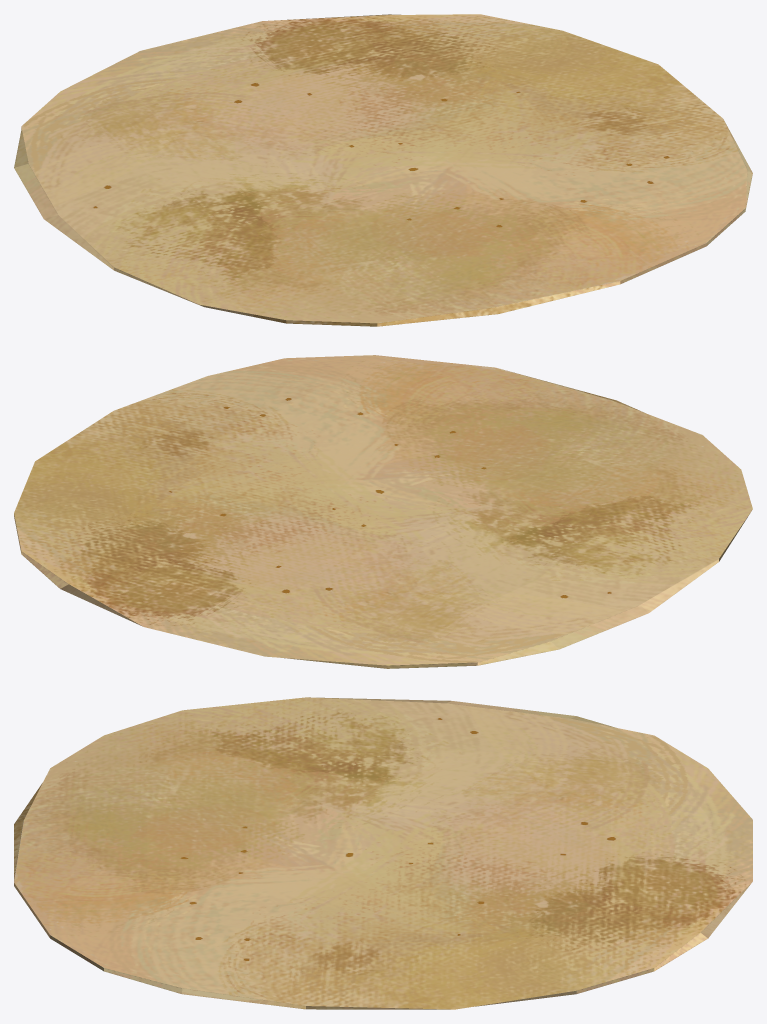
Rendered from masa1.fbx.
The picture shows the model from 3 angles, top to bottom: view 1: azimuth 30°, elevation 25°; view 2: azimuth 150°, elevation 25°; view 3: azimuth 270°, elevation 25°; orthographic projection. The views are drawn at different scales.
Visible parts, largest first — view 1: Plane; view 2: Plane; view 3: Plane.
Boxes of the visible parts, bbox=[...] form: Plane: bbox=[14, 14, 752, 326]; Plane: bbox=[14, 355, 752, 668]; Plane: bbox=[14, 697, 752, 1009].
Size of the model in its own units: 2.06 by 0.0392 by 2.07.
1 material, 1 textured.
